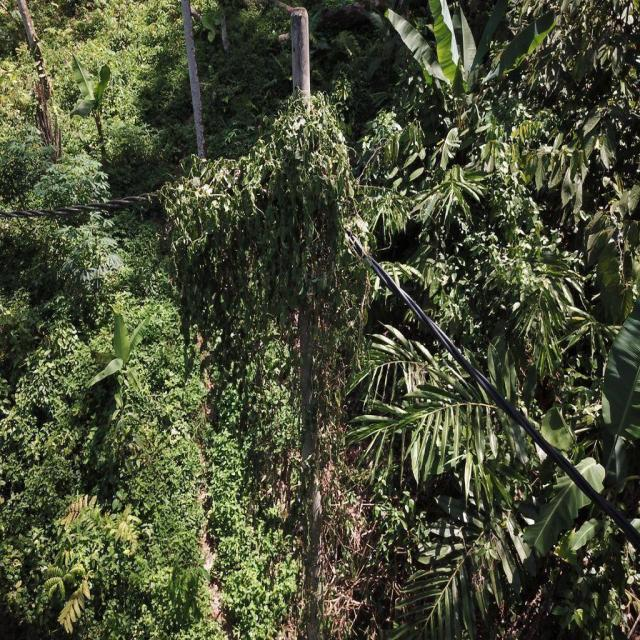critical vegetation: (152, 82, 364, 604)
